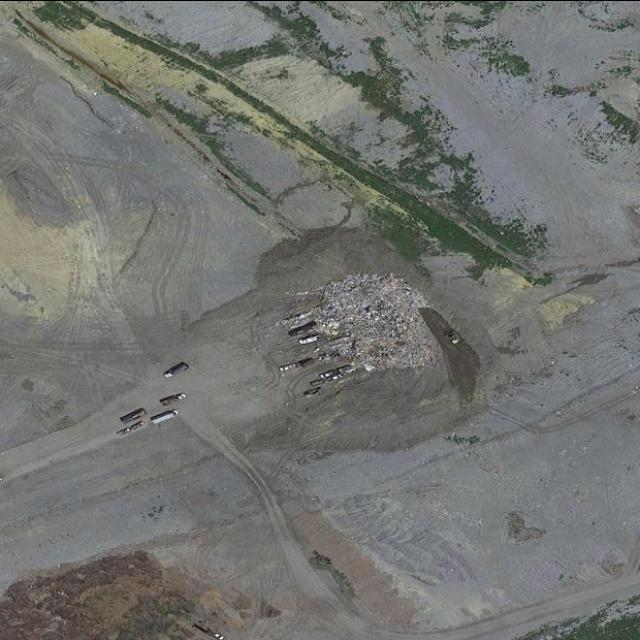dump_site: (290, 264, 455, 379)
